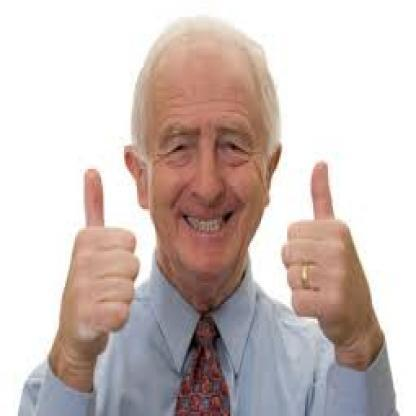thumb_up: (60, 166, 142, 358), (278, 158, 362, 333)
